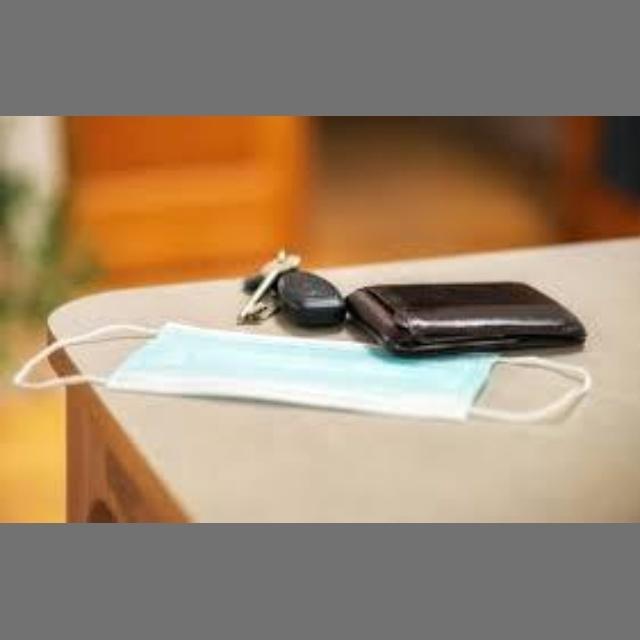Wallet: (354, 270, 606, 370)
